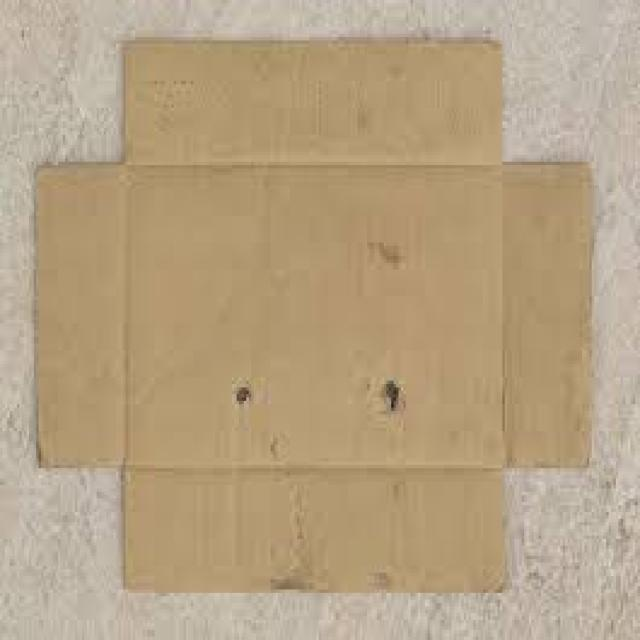cardboard: (29, 34, 592, 593)
